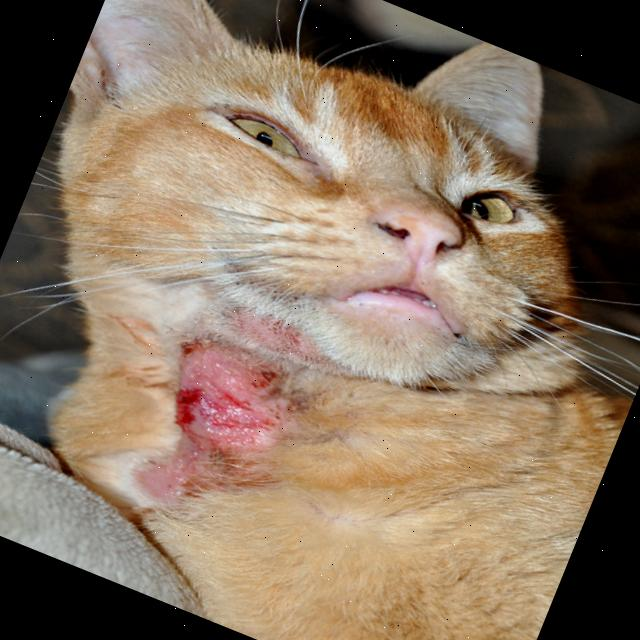cat-lump-and-bump: (134, 328, 298, 510)
